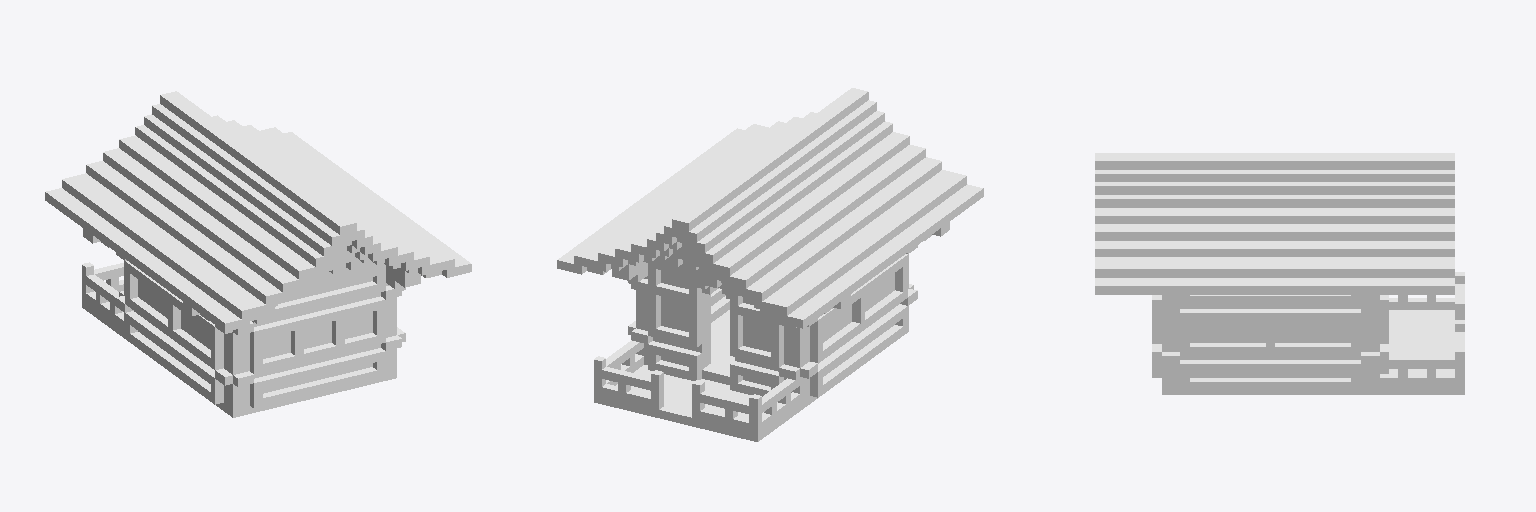
Rendered from Haus1.obj.
3 renders of one model, left to right at view 1: azimuth 30°, elevation 25°; view 2: azimuth 150°, elevation 25°; view 3: azimuth 270°, elevation 25°, orthographic.
Bounding box in the file's own units: 30 × 23 × 39.